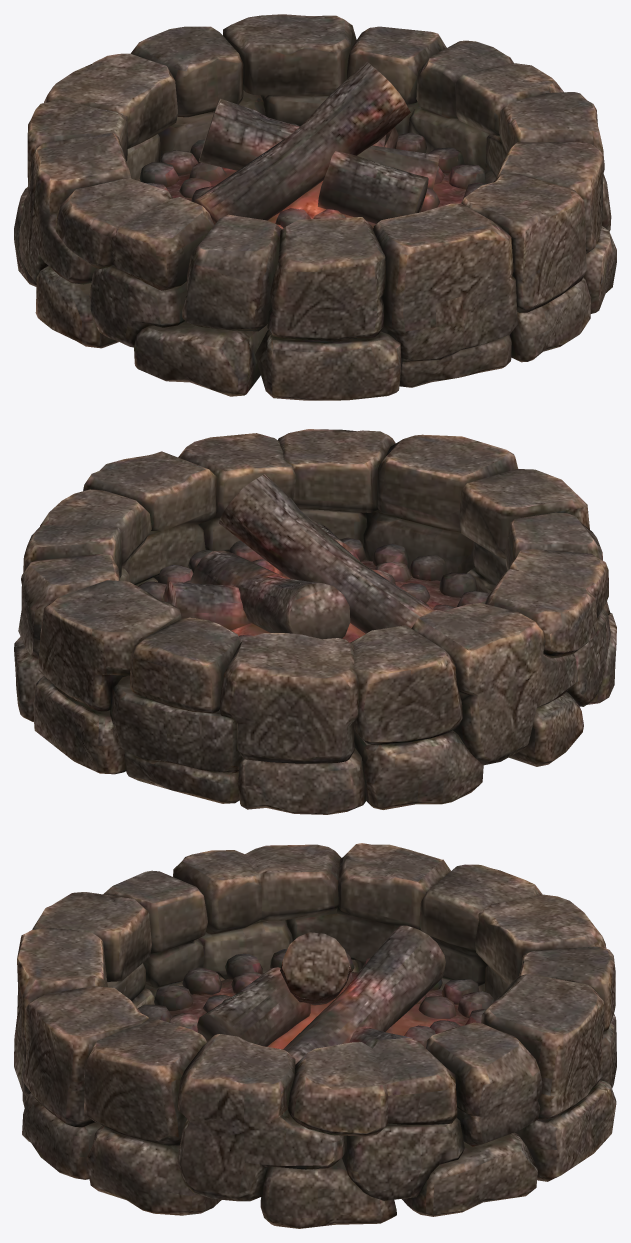
File: prop_campfire.glb
The picture shows the model from 3 angles, top to bottom: view 1: azimuth 30°, elevation 25°; view 2: azimuth 150°, elevation 25°; view 3: azimuth 270°, elevation 25°; orthographic projection.
Visible parts, largest first — view 1: tripo_node_35f4c64c-2de1-4a50-b2cf-d061781ab11a; view 2: tripo_node_35f4c64c-2de1-4a50-b2cf-d061781ab11a; view 3: tripo_node_35f4c64c-2de1-4a50-b2cf-d061781ab11a.
Boxes of the visible parts, bbox=[...] form: tripo_node_35f4c64c-2de1-4a50-b2cf-d061781ab11a: bbox=[14, 14, 616, 400]; tripo_node_35f4c64c-2de1-4a50-b2cf-d061781ab11a: bbox=[14, 429, 616, 814]; tripo_node_35f4c64c-2de1-4a50-b2cf-d061781ab11a: bbox=[14, 843, 616, 1228].
Bounding box in the file's own units: 0.9995 × 0.3716 × 0.9985.
1 material, 1 textured.
